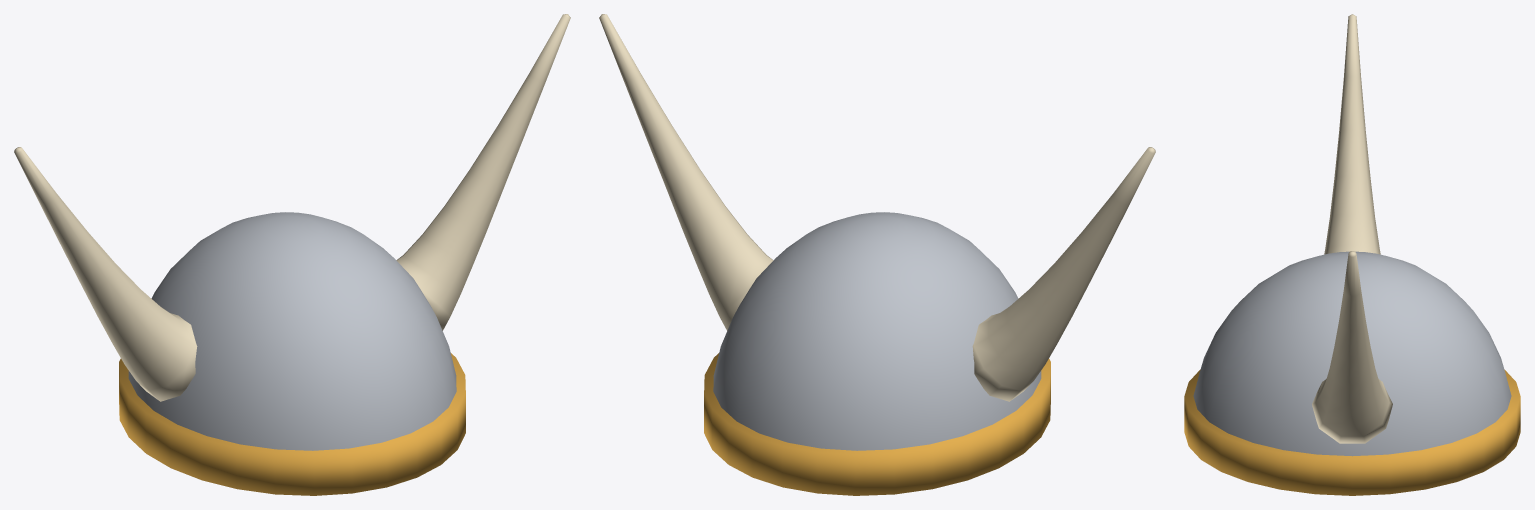
Rendered from horned_helm.glb.
3 views of the same model, side by side, from view 1: azimuth 30°, elevation 25°; view 2: azimuth 150°, elevation 25°; view 3: azimuth 270°, elevation 25° (orthographic). The views are drawn at different scales.
Visible parts, largest first — view 1: horned_helm; view 2: horned_helm; view 3: horned_helm.
Part boxes in pixels (x1,y1,x2,y2): horned_helm: [14, 14, 570, 495]; horned_helm: [599, 14, 1155, 495]; horned_helm: [1184, 14, 1520, 495].
Size of the model in its own units: 0.425 by 0.2466 by 0.251.
